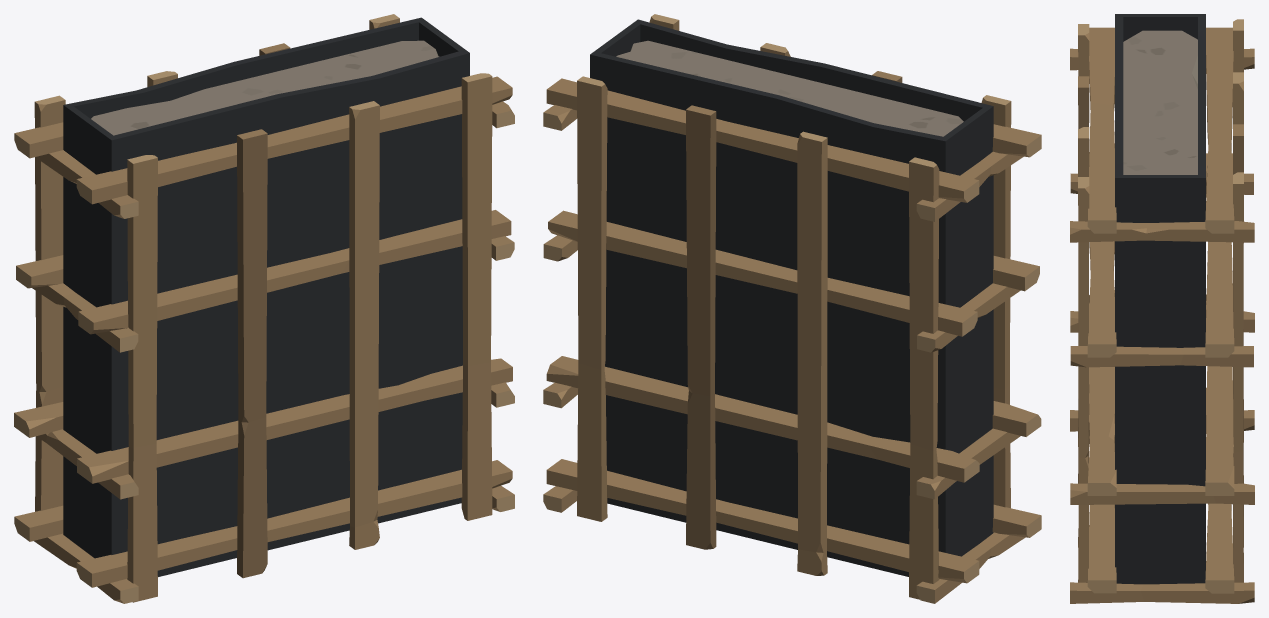
File: SM_Bld_ConcreteFrame_Wall_01.fbx
The picture shows the model from 3 angles, left to right: view 1: azimuth 30°, elevation 25°; view 2: azimuth 150°, elevation 25°; view 3: azimuth 270°, elevation 25°; orthographic projection. The views are drawn at different scales.
Parts seen in each view (by area): view 1: SM_Bld_ConcreteFrame_Wall_01; view 2: SM_Bld_ConcreteFrame_Wall_01; view 3: SM_Bld_ConcreteFrame_Wall_01.
Part boxes in pixels (<box>): SM_Bld_ConcreteFrame_Wall_01: <box>14,14,514,603</box>; SM_Bld_ConcreteFrame_Wall_01: <box>543,14,1041,603</box>; SM_Bld_ConcreteFrame_Wall_01: <box>1070,14,1254,603</box>.
Bounding box in the file's own units: 305 × 313 × 123.
